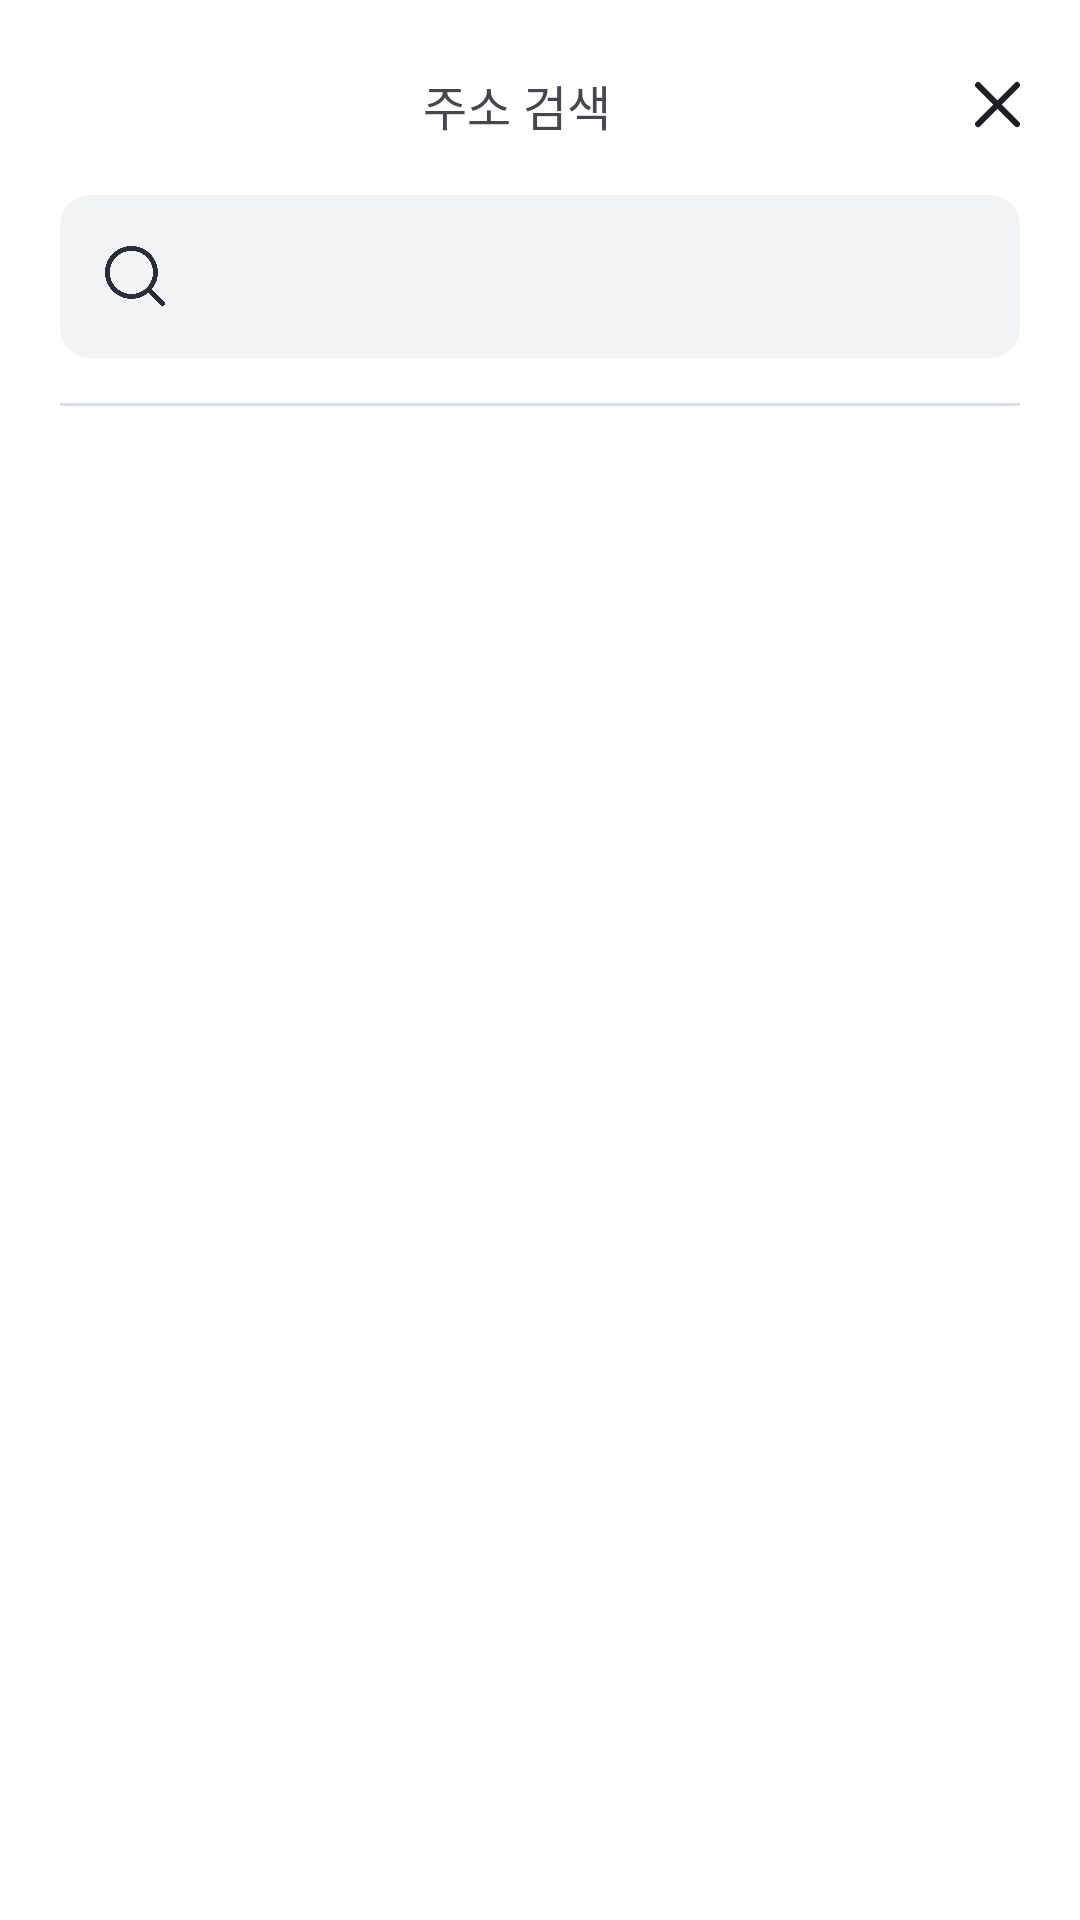

Icon click points for this 1080px×1920px phone screenshot, format point (x, y):
close: point (997, 104)
